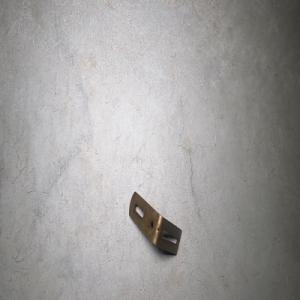MetalPart: (128, 190, 182, 256)
